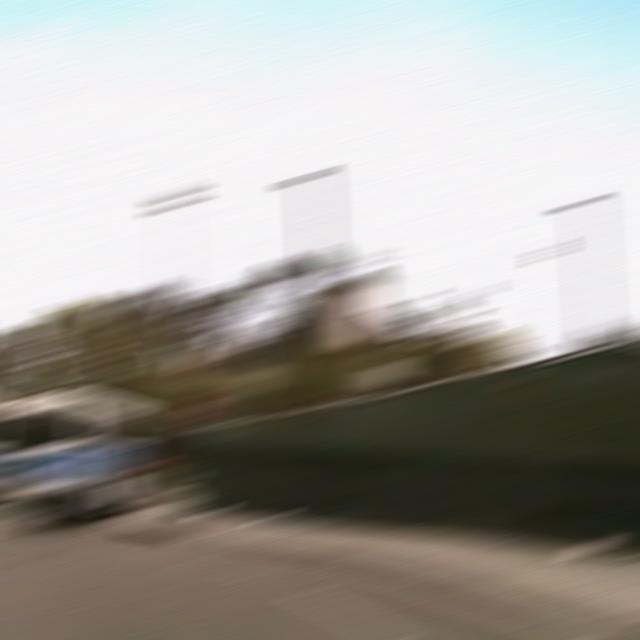stop: (178, 394, 218, 425)
